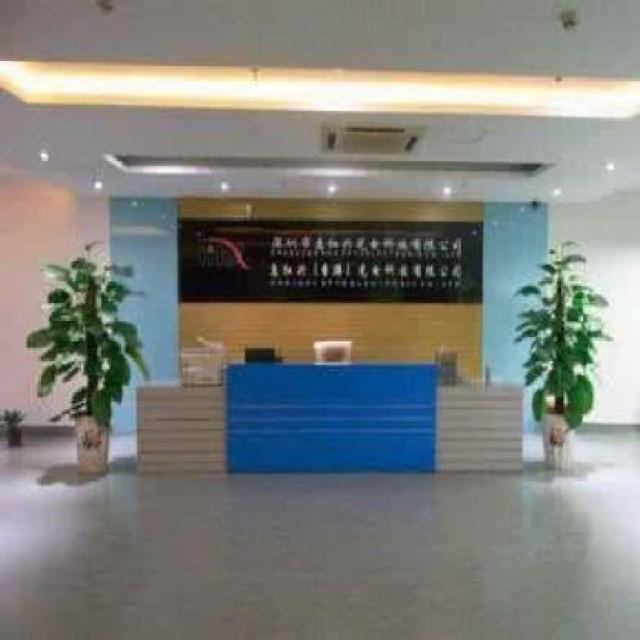frontdesk: (131, 354, 530, 488)
